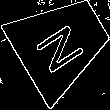N_NE: (32, 13, 92, 74)
